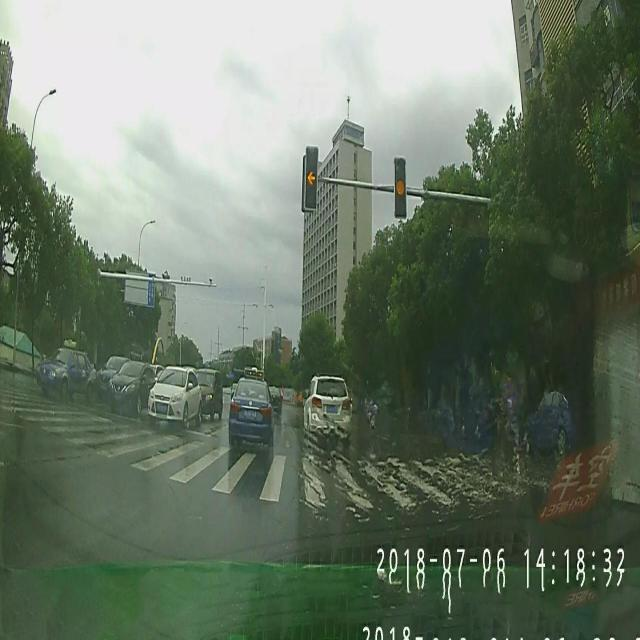car: (302, 368, 353, 452), (146, 358, 204, 430), (34, 339, 98, 401), (227, 368, 274, 452), (104, 361, 156, 413), (96, 350, 131, 397), (195, 366, 224, 419), (270, 386, 282, 421)
